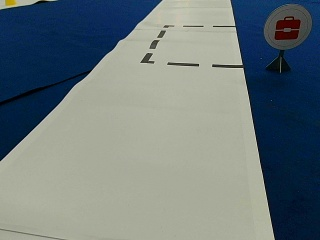company: (264, 4, 312, 48)
